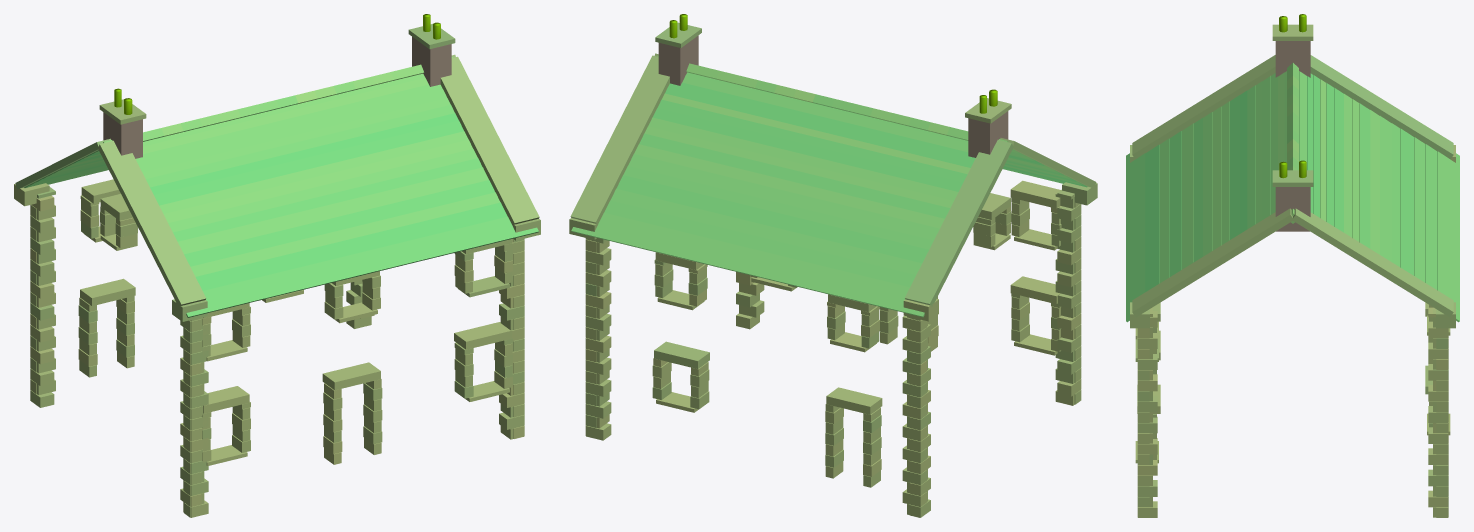
File: SM_Bld_071_Stone.glb
The picture shows the model from 3 angles, left to right: view 1: azimuth 30°, elevation 25°; view 2: azimuth 150°, elevation 25°; view 3: azimuth 270°, elevation 25°; orthographic projection. The views are drawn at different scales.
Parts seen in each view (by area): view 1: SM_Bld_071_Stone; view 2: SM_Bld_071_Stone; view 3: SM_Bld_071_Stone.
Part boxes in pixels (box(x1,y1,x2,y2)): SM_Bld_071_Stone: box(14, 14, 540, 517); SM_Bld_071_Stone: box(569, 14, 1097, 517); SM_Bld_071_Stone: box(1126, 14, 1459, 517).
Bounding box in the file's own units: 10.3 × 9.95 × 8.58.
